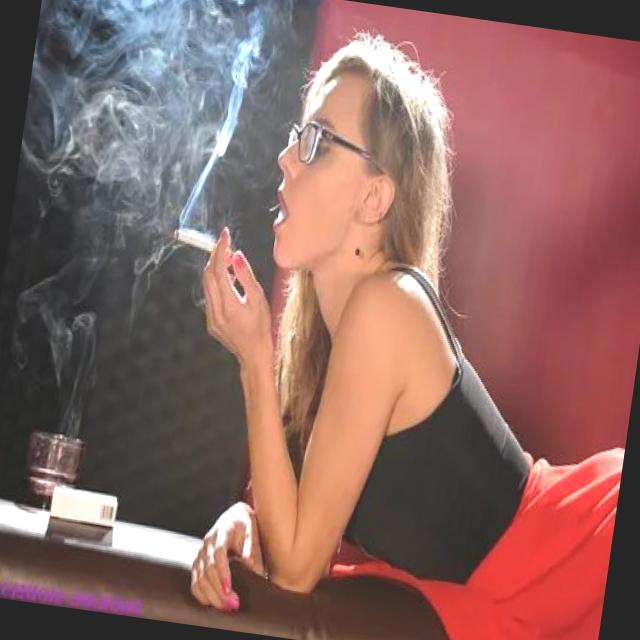cigarette: (162, 219, 244, 273)
